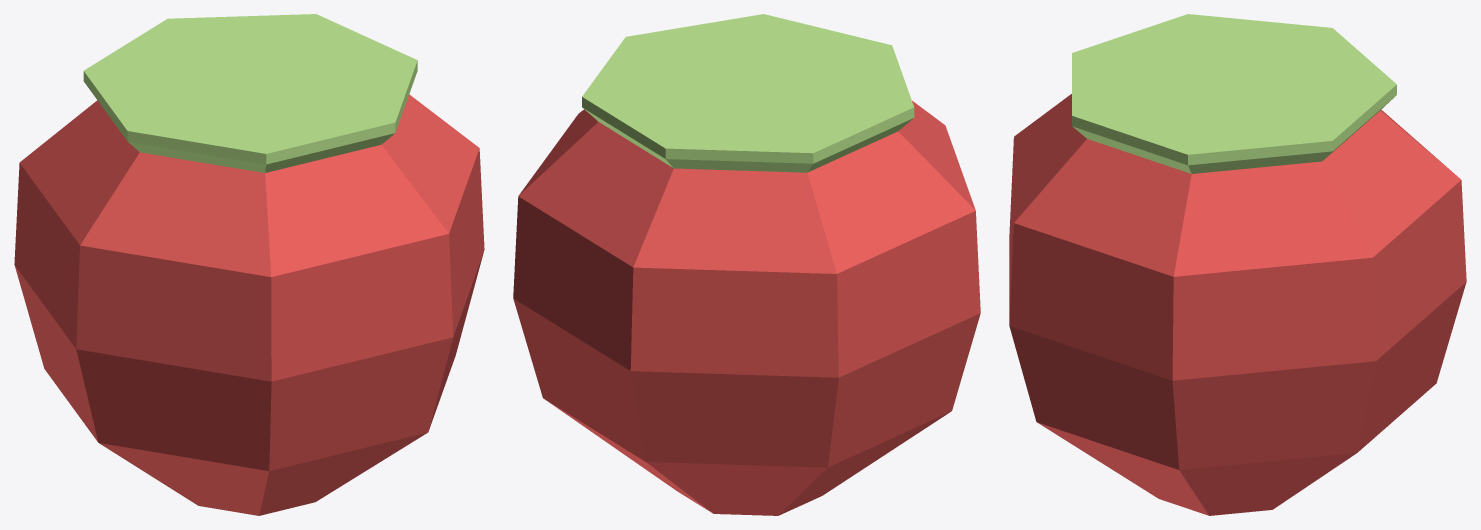
File: strawberry.fbx
3 renders of one model, left to right at view 1: azimuth 30°, elevation 25°; view 2: azimuth 150°, elevation 25°; view 3: azimuth 270°, elevation 25°, orthographic.
Parts seen in each view (by area): view 1: strawberry.001, leaf.001; view 2: strawberry.001, leaf.001; view 3: strawberry.001, leaf.001.
Boxes of the visible parts, <box> form: strawberry.001: <box>14,94,484,515</box>; leaf.001: <box>83,14,417,172</box>; strawberry.001: <box>513,100,980,515</box>; leaf.001: <box>582,14,914,172</box>; strawberry.001: <box>1009,94,1466,515</box>; leaf.001: <box>1072,14,1396,173</box>.
Bounding box in the file's own units: 209 × 197 × 204.
